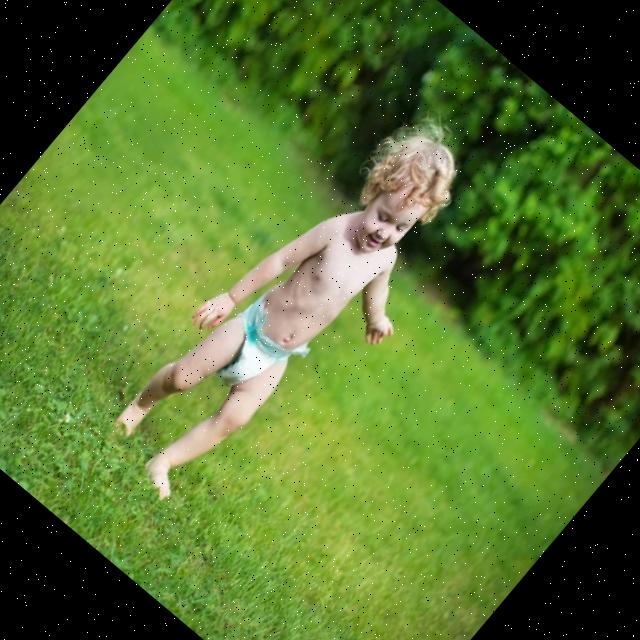Person: (88, 88, 508, 544)
